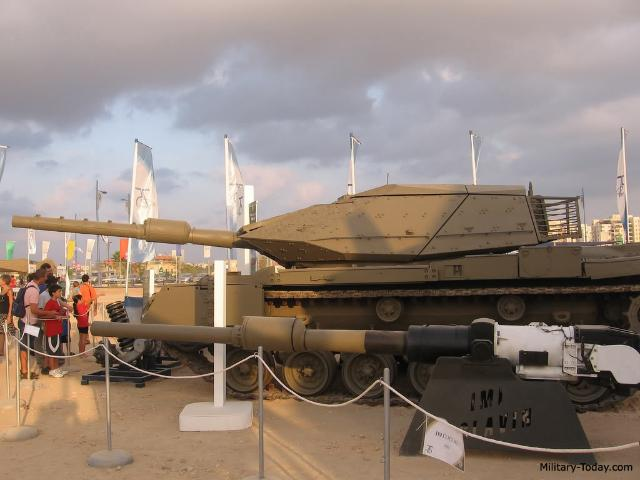tank: (151, 179, 637, 391)
